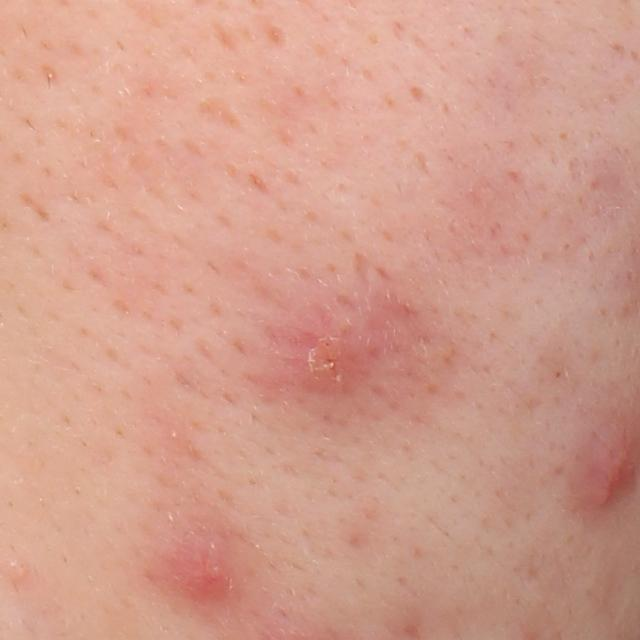atrophic_scar: (196, 91, 247, 132)
comedo: (1, 549, 32, 594)
papule: (261, 289, 399, 403), (566, 400, 640, 522), (157, 520, 263, 605)
